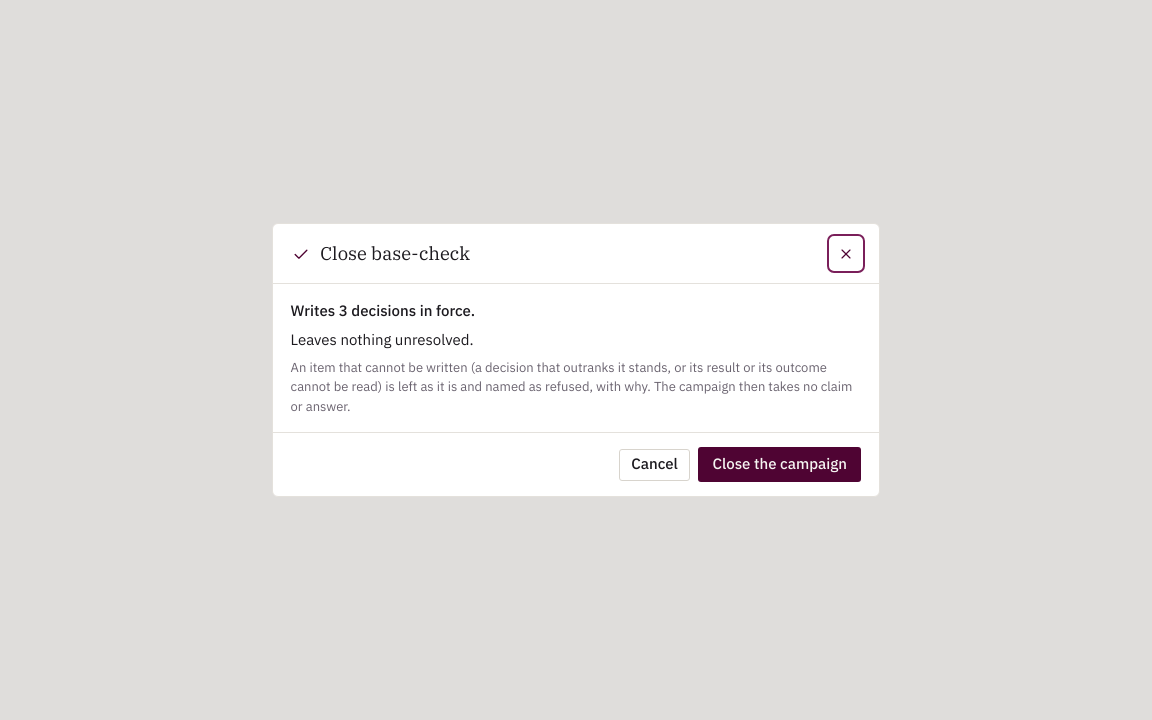
Scenario: the close dialog › follows the close's job, then says what it wrote and refused, and the page reads again
Later steps or results of the test are not shown.
Click the button "Close the campaign".
click(780, 465)  # box left=698, top=447, right=861, bottom=482
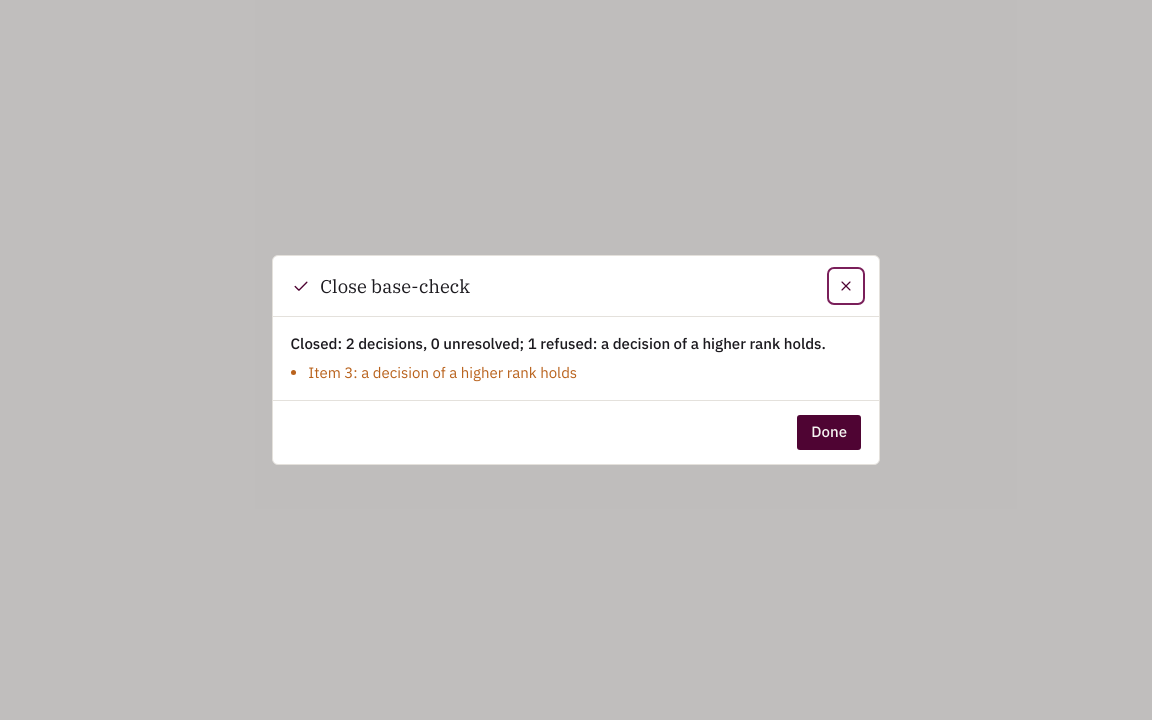
Result: the text "Closed: 2 decisions, 0 unresolved; 1 refused: a decision of a higher rank holds." is shown at left=291, top=333, right=861, bottom=355
Result: the text "Item 3: a decision of a higher rank holds" is shown at left=308, top=362, right=577, bottom=382
